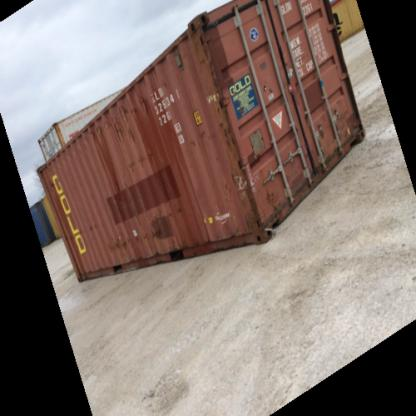Damage: (219, 124, 277, 230), (190, 34, 244, 119), (107, 214, 183, 250), (87, 110, 163, 142), (325, 93, 360, 142), (124, 148, 159, 169), (129, 86, 155, 110), (258, 78, 283, 102), (185, 124, 207, 150), (78, 214, 100, 228)
